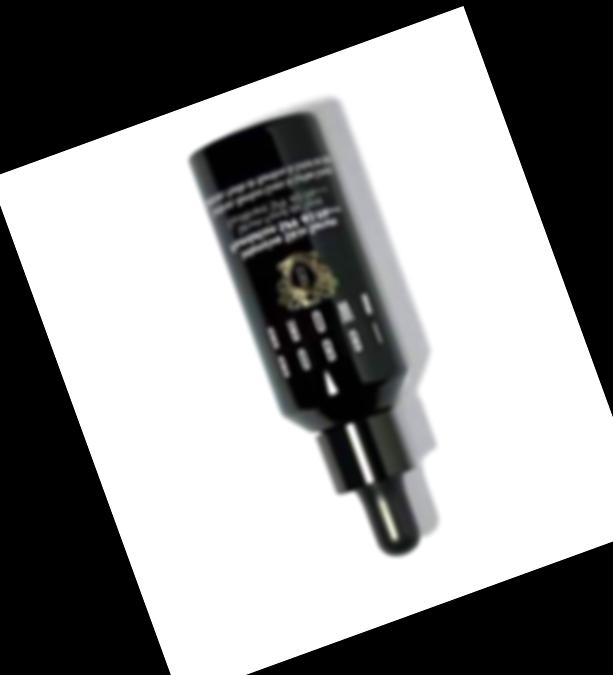cosmetic: (184, 113, 466, 579)
